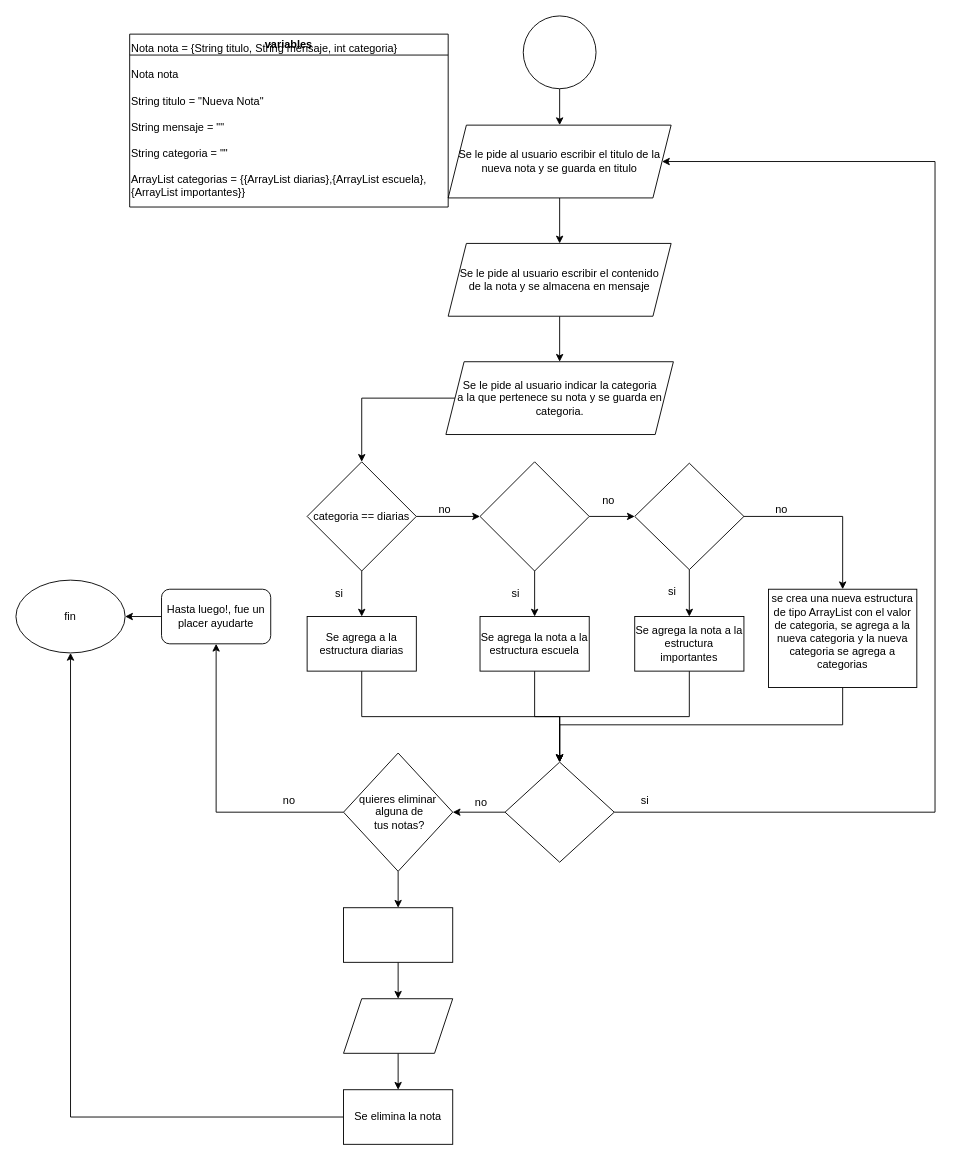
Image size: 958x1160. Some labels were removed from this diagram. Here are the shapes that lost their labels. From the top down, the centre of each, then its label:
(559,52): inicio
(534,516): categoria == escuela
(689,516): categoria == importantes
(559,811): Quieres crear otra nota?
(398,934): se muestran todas las notas
(398,1025): que nota deseas eliminar?
